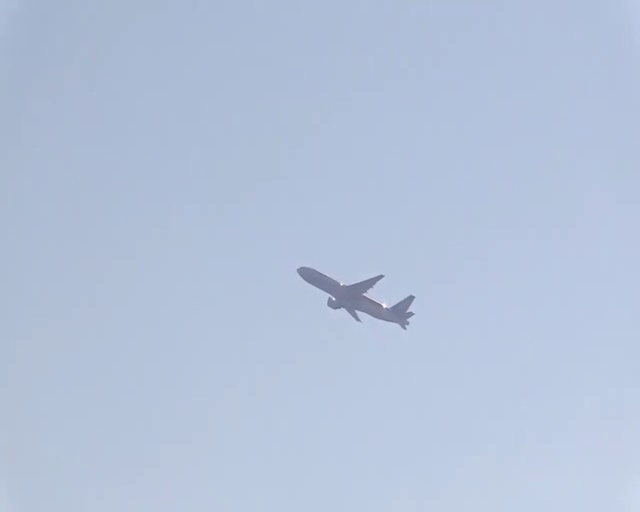AIRPLANE: (296, 264, 416, 330)
